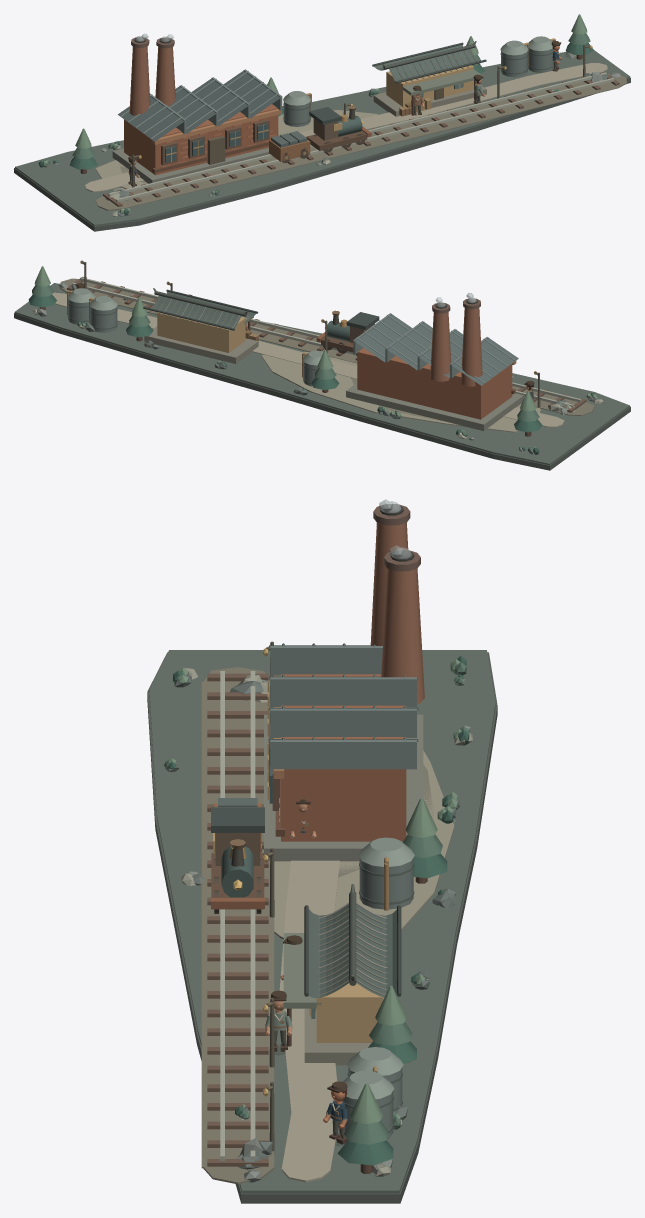
File: steam.glb
3 views of the same model, one above another, from view 1: azimuth 30°, elevation 25°; view 2: azimuth 150°, elevation 25°; view 3: azimuth 270°, elevation 25° (orthographic). The views are drawn at different scales.
Visible parts, largest first — view 1: TerrainAndBuildings, SteamTrainMotion; view 2: TerrainAndBuildings, SteamTrainMotion; view 3: TerrainAndBuildings, SteamTrainMotion.
Boxes of the visible parts, bbox=[...] form: TerrainAndBuildings: bbox=[14, 14, 630, 231]; SteamTrainMotion: bbox=[269, 105, 371, 162]; TerrainAndBuildings: bbox=[14, 260, 630, 470]; SteamTrainMotion: bbox=[316, 310, 379, 356]; TerrainAndBuildings: bbox=[147, 504, 497, 1203]; SteamTrainMotion: bbox=[211, 798, 264, 913].
Bounding box in the file's own units: 1.73 × 0.3922 × 0.4717.
